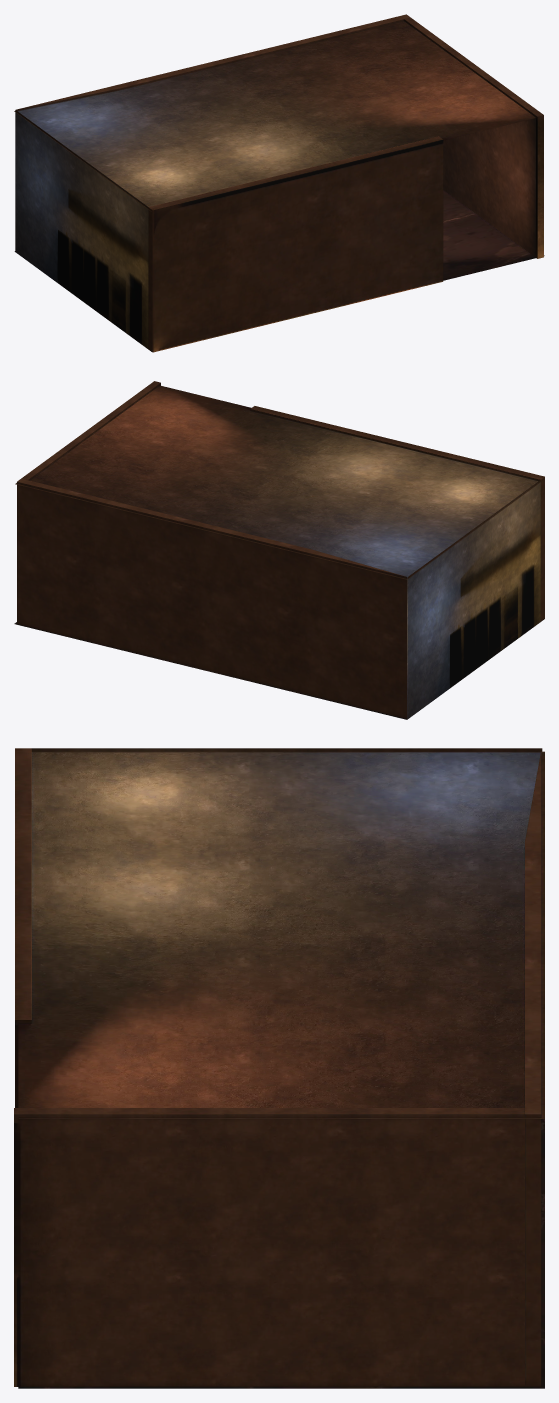
File: new_kitchen_animate.glb
The picture shows the model from 3 angles, top to bottom: view 1: azimuth 30°, elevation 25°; view 2: azimuth 150°, elevation 25°; view 3: azimuth 270°, elevation 25°; orthographic projection. The views are drawn at different scales.
Parts seen in each view (by area): view 1: Plane.028, Plane.029, Plane.012, Plane.013, Plane.027, Plane.011; view 2: Plane.011, Plane.028, Plane.012, Plane.029, Plane.013, Plane.027; view 3: Plane.028, Plane.013, Plane.011, Plane.029, Plane.027, Plane.012.
Boxes of the visible parts, x1,y1,x2,y2 form: Plane.028: [14, 21, 535, 211]; Plane.029: [148, 136, 443, 352]; Plane.012: [15, 110, 148, 348]; Plane.013: [404, 17, 543, 258]; Plane.027: [14, 190, 544, 351]; Plane.011: [16, 14, 410, 111]; Plane.011: [17, 478, 406, 718]; Plane.028: [15, 385, 544, 579]; Plane.012: [407, 480, 540, 718]; Plane.029: [250, 406, 544, 621]; Plane.013: [21, 381, 160, 480]; Plane.027: [14, 589, 543, 719]; Plane.028: [18, 751, 544, 1118]; Plane.013: [14, 1108, 524, 1386]; Plane.011: [525, 751, 541, 1386]; Plane.029: [15, 748, 31, 1107]; Plane.027: [18, 1119, 544, 1388]; Plane.012: [31, 748, 542, 752].
Bounding box in the file's own units: 15.2 × 5.27 × 9.27.
Materials: 119 (71 with a texture image).
